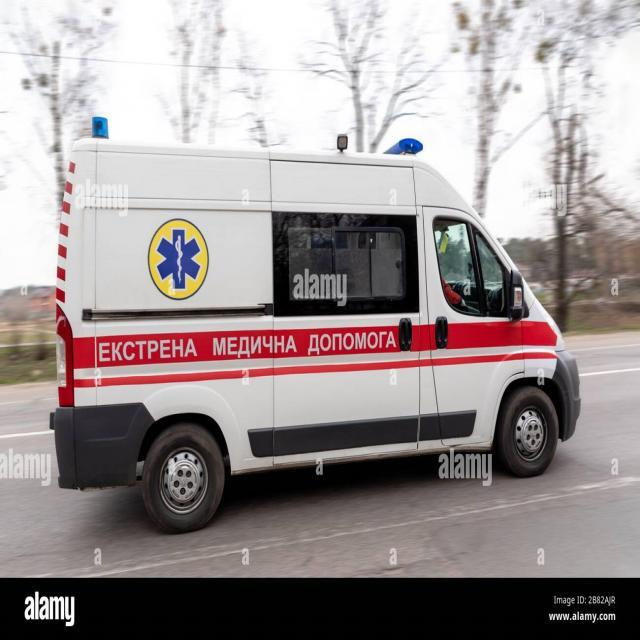emergency-vehicle: (46, 92, 582, 526)
